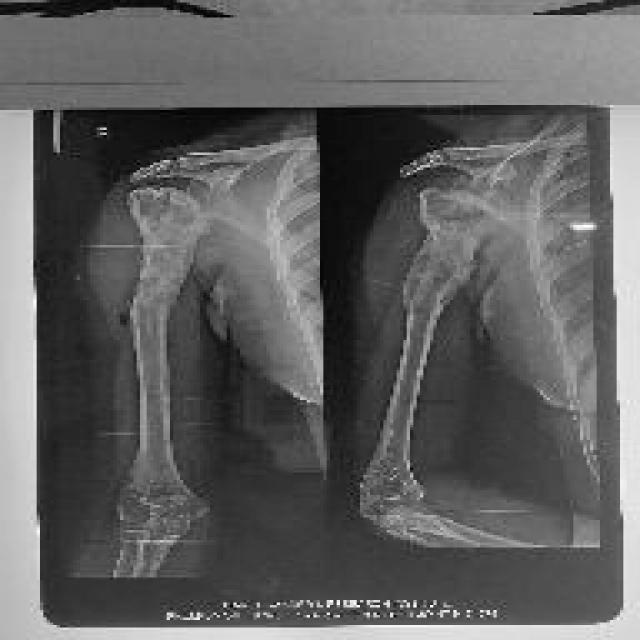bone-cancer: (405, 179, 496, 308), (128, 185, 208, 314)
